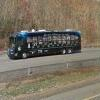Bus: (8, 27, 87, 62)
